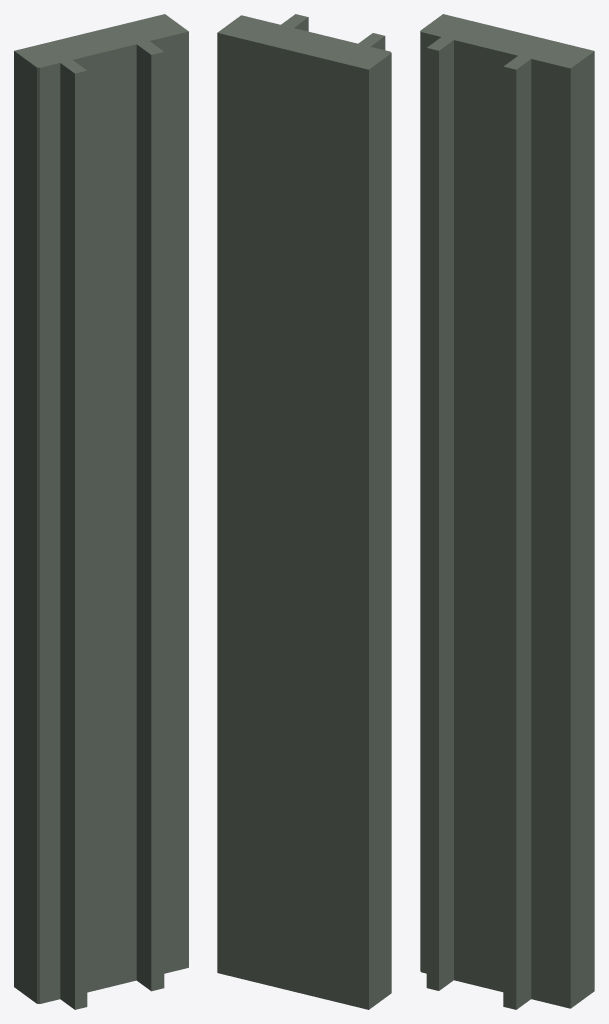
The model's file is SM_garage_rod_02.fbx.
The picture shows the model from 3 angles, left to right: view 1: azimuth 30°, elevation 25°; view 2: azimuth 150°, elevation 25°; view 3: azimuth 330°, elevation 25°; orthographic projection.
Parts seen in each view (by area): view 1: garage_rod_02; view 2: garage_rod_02; view 3: garage_rod_02.
Part boxes in pixels (x1,y1,x2,y2): garage_rod_02: [14, 14, 188, 1009]; garage_rod_02: [217, 14, 391, 1009]; garage_rod_02: [420, 14, 594, 1009].
Size of the model in its own units: 67.47 by 400 by 29.93.
